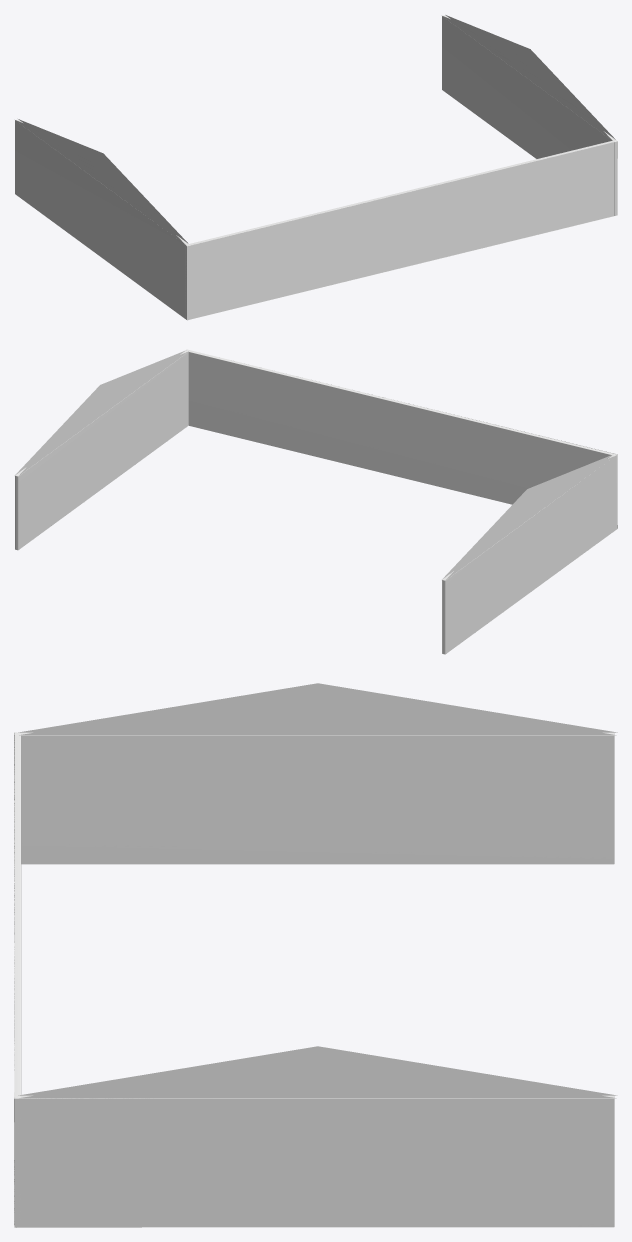
File: warehouse_cladding.glb
The picture shows the model from 3 angles, top to bottom: view 1: azimuth 30°, elevation 25°; view 2: azimuth 150°, elevation 25°; view 3: azimuth 270°, elevation 25°; orthographic projection. The views are drawn at different scales.
Visible parts, largest first — view 1: WarehouseCladding; view 2: WarehouseCladding; view 3: WarehouseCladding.
Part boxes in pixels (x1,y1,x2,y2): WarehouseCladding: (15, 15, 617, 320); WarehouseCladding: (14, 349, 617, 654); WarehouseCladding: (14, 683, 617, 1227).
Bounding box in the file's own units: 23.1 × 5.25 × 16.1.
Materials: 1 (1 with a texture image).
